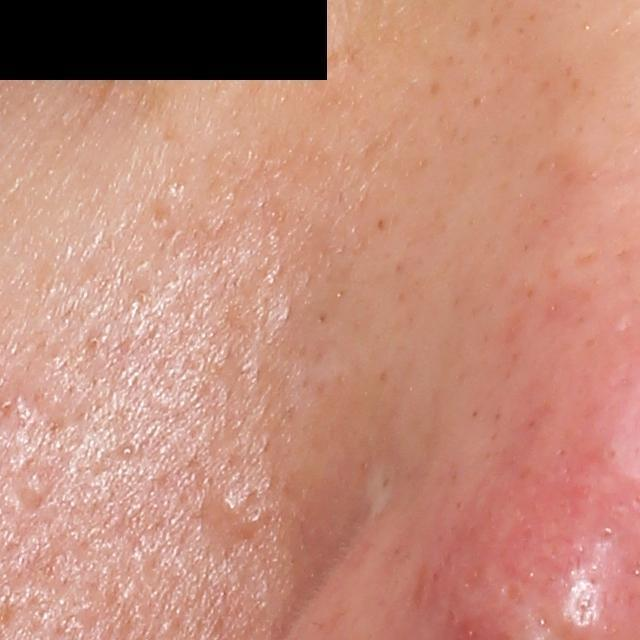comedo: (208, 479, 252, 523), (15, 470, 50, 508), (118, 442, 137, 461)
